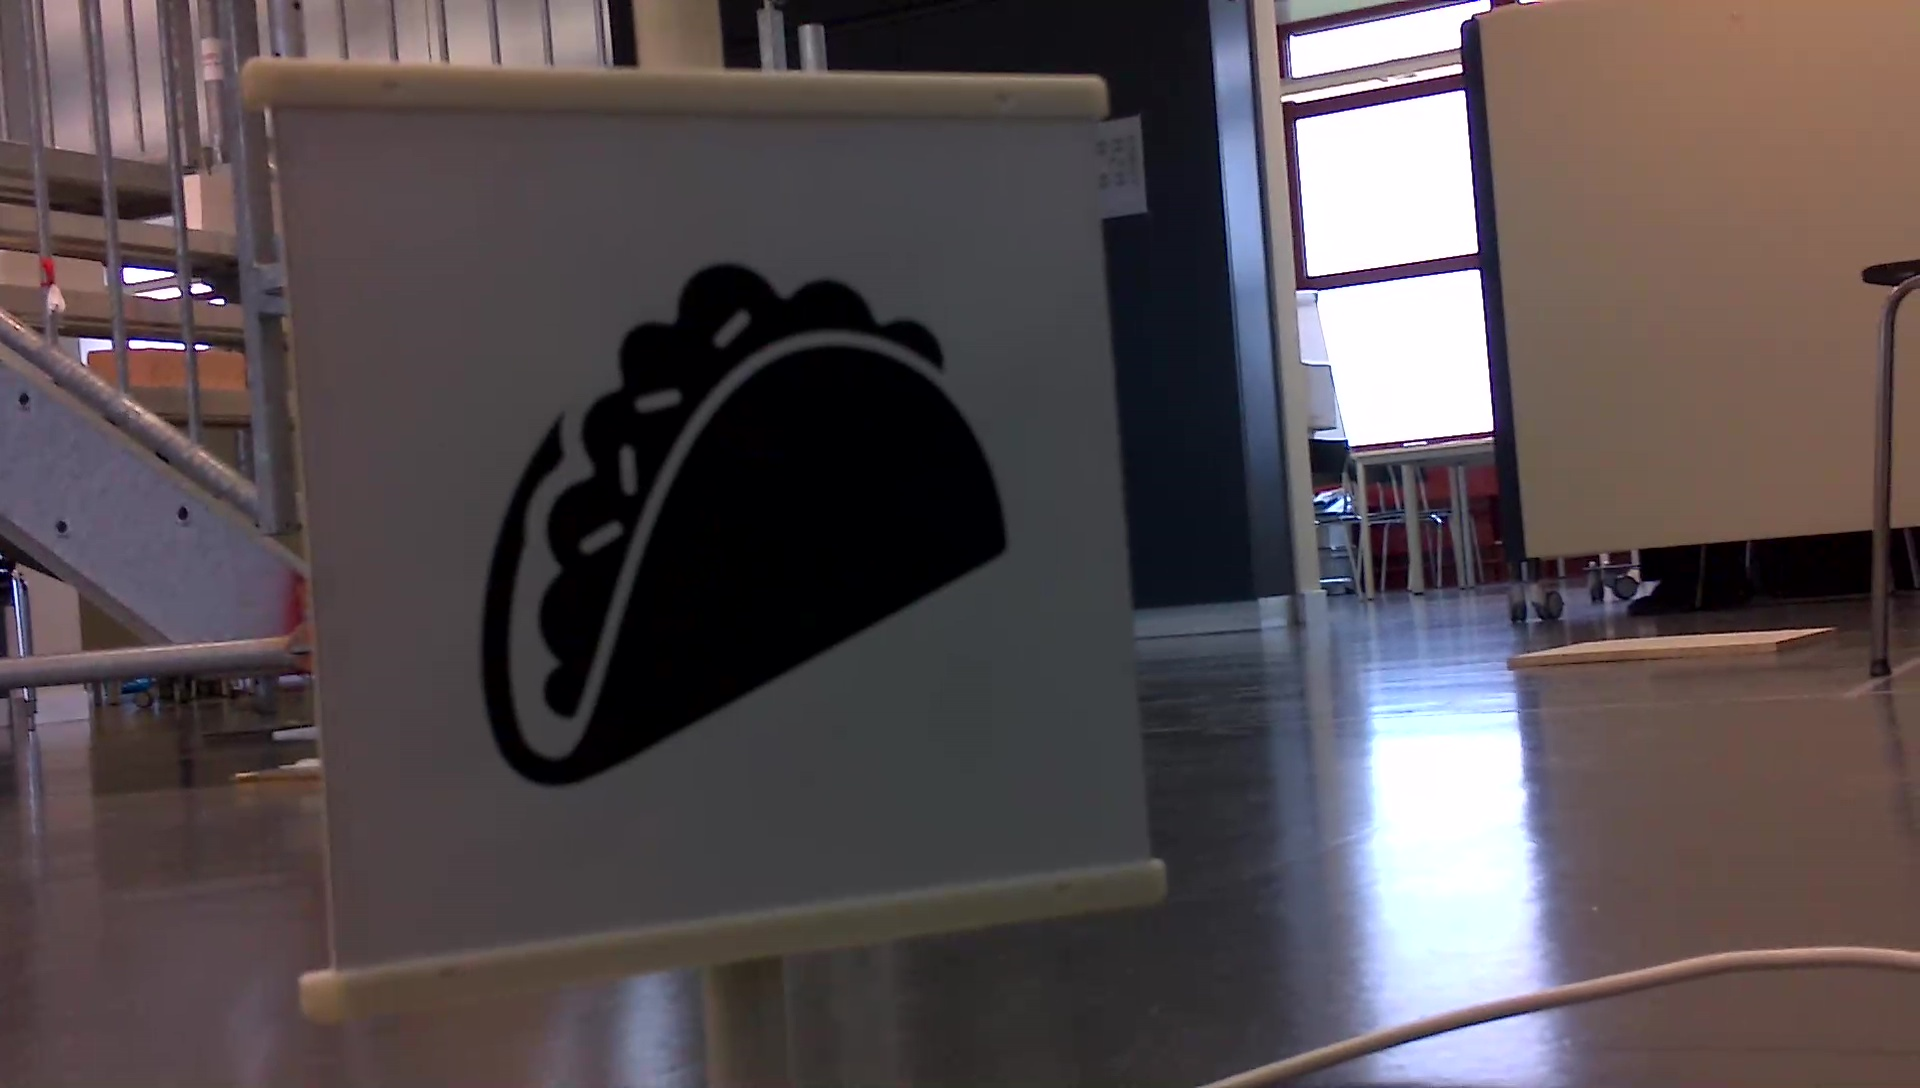taco: (464, 247, 1021, 801)
